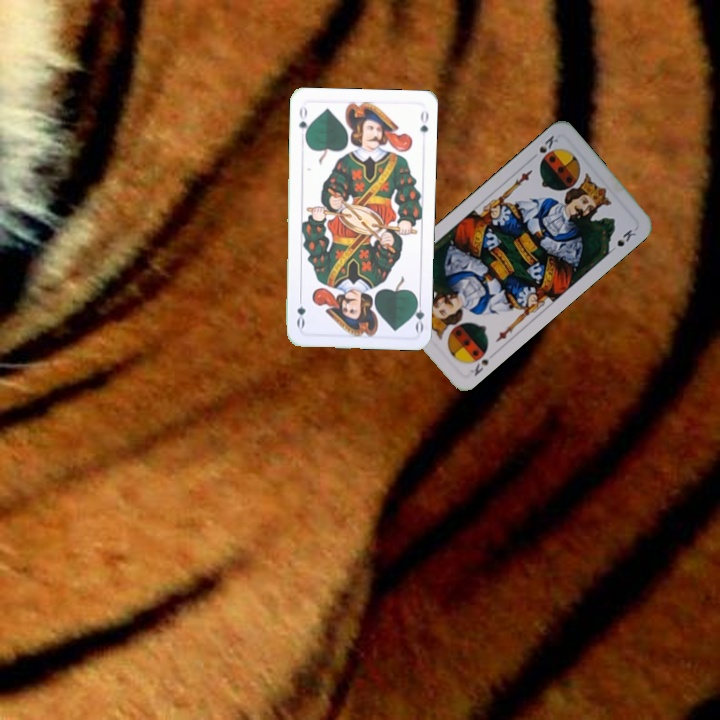GO: (408, 293, 427, 334), (295, 102, 312, 143)
SK: (466, 344, 492, 379), (535, 131, 561, 156)
